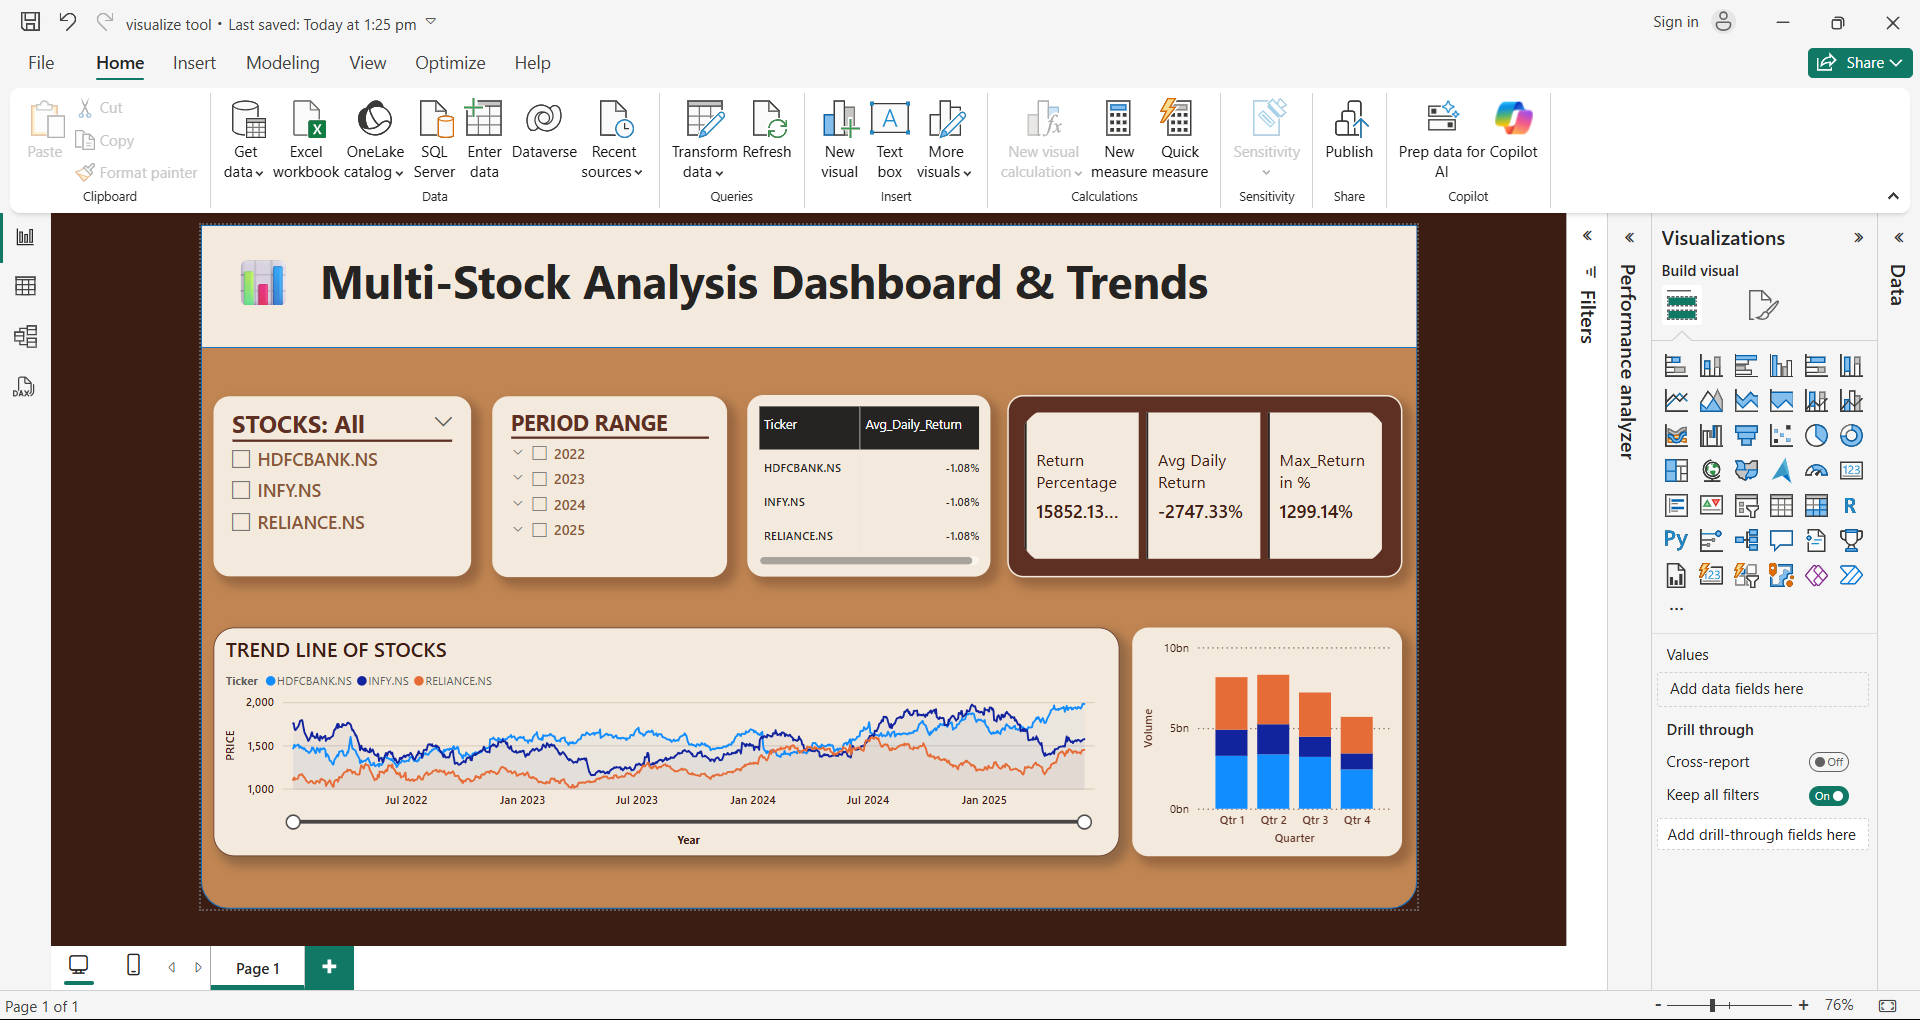

This screenshot's page, from the dashboard's own definition file:
{"tool":"powerbi","page":{"name":"Page 1","canvas":[1280,720],"ordinal":0},"visuals":[{"type":"shape","box":[0,0,1280.3,719.7],"z":0},{"type":"shape","box":[0,0,1280.4,129.4],"z":1000},{"type":"textbox","title":"Visualize  Stock Analytics","box":[27.6,21.1,1236.8,86.8],"z":2000},{"type":"tableEx","fields":{"Values":["average return.Ticker","stock_data.Avg_Daily_Return"]},"box":[564.5,178.9,273.7,192.1],"z":3000},{"type":"lineChart","title":"TREND LINE OF STOCKS","fields":{"Category":["stock_data.Date.Variation.Date Hierarchy.Year","stock_data.Date.Variation.Date Hierarchy.Quarter","stock_data.Date.Variation.Date Hierarchy.Month","stock_data.Date.Variation.Date Hierarchy.Day"],"Y":["Avg(stock_data.Close)"],"Series":["stock_data.Ticker"]},"box":[13.2,423.7,953.9,240.8],"z":4000},{"type":"columnChart","fields":{"Category":["stock_data.Date.Variation.Date Hierarchy.Year","stock_data.Date.Variation.Date Hierarchy.Quarter","stock_data.Date.Variation.Date Hierarchy.Month","stock_data.Date.Variation.Date Hierarchy.Day"],"Series":["stock_data.Ticker"],"Y":["Sum(stock_data.Volume)"]},"box":[980.3,423.7,284.2,240.8],"z":5000},{"type":"slicer","fields":{"Values":["stock_data.Ticker"]},"box":[13.2,180.3,271.1,189.5],"z":6000},{"type":"slicer","fields":{"Values":["stock_data.Date.Variation.Date Hierarchy.Year","stock_data.Date.Variation.Date Hierarchy.Quarter","stock_data.Date.Variation.Date Hierarchy.Month","stock_data.Date.Variation.Date Hierarchy.Day"]},"box":[301.3,181.6,247.4,189.5],"z":7000},{"type":"cardVisual","fields":{"Data":["Sum(stock_data.Return_Percent)","Sum(stock_data.Avg_Daily_Return)","Sum(stock_data.Max_Return)"]},"box":[848.7,178.9,415.8,192.1],"z":8000}]}

Visuals, with their boxes on the page's 1280x720 design canvas (x1, y1, x2, y2). These are canvas units, not pixel positions in the 1920x1020 screenshot, which may show the page scaled, cropped or inside an application window:
shape: bbox(0, 0, 1280, 720)
shape: bbox(0, 0, 1280, 129)
"Visualize  Stock Analytics" textbox: bbox(28, 21, 1264, 108)
tableEx - average return.Ticker x stock_data.Avg_Daily_Return: bbox(564, 179, 838, 371)
"TREND LINE OF STOCKS" lineChart: bbox(13, 424, 967, 664)
columnChart - stock_data.Date.Variation.Date Hierarchy.Year x stock_data.Date.Variation.Date Hierarchy.Quarter: bbox(980, 424, 1264, 664)
slicer - stock_data.Ticker: bbox(13, 180, 284, 370)
slicer - stock_data.Date.Variation.Date Hierarchy.Year x stock_data.Date.Variation.Date Hierarchy.Quarter: bbox(301, 182, 549, 371)
cardVisual - Sum(stock_data.Return_Percent) x Sum(stock_data.Avg_Daily_Return): bbox(849, 179, 1264, 371)
